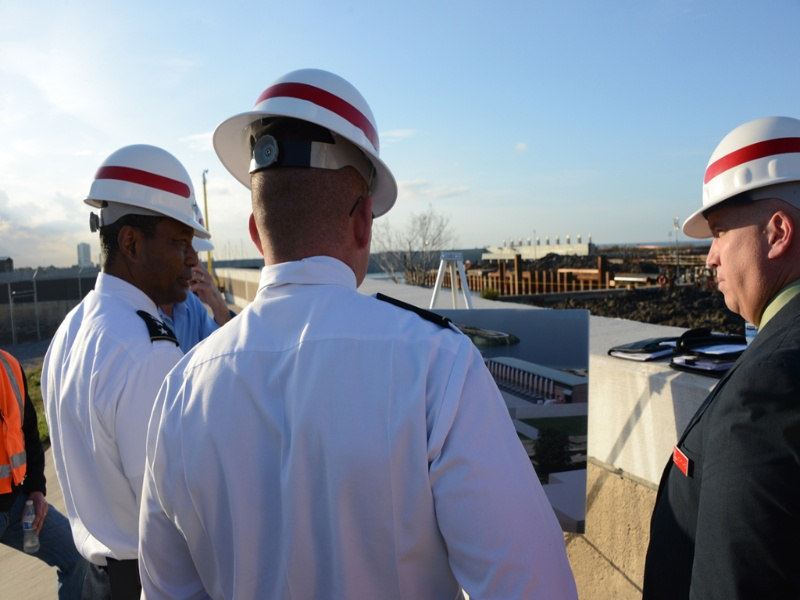helmet: (215, 66, 400, 204), (686, 118, 796, 229), (85, 143, 208, 237)
jacket: (1, 353, 31, 494)
